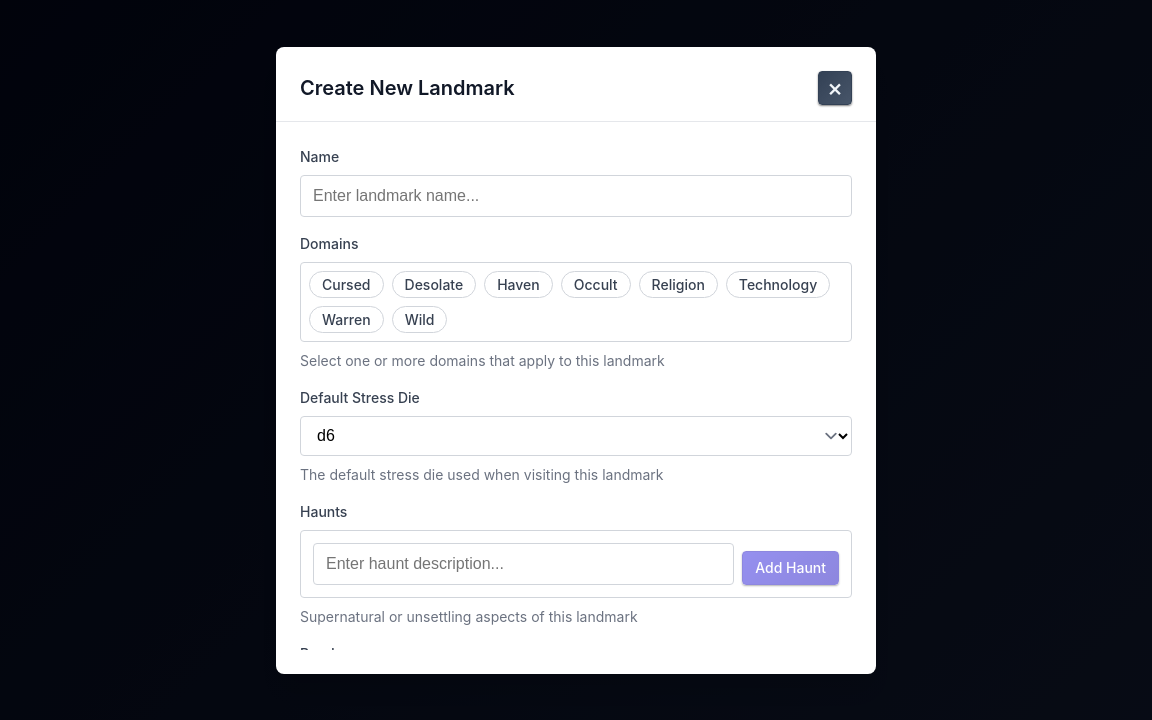
Test case: LandmarkForm › Form Fields › allows adding haunts
Type "New haunt" into the field with placeholder "Enter haunt description...". click: (524, 564)
box: [313,542,734,584]
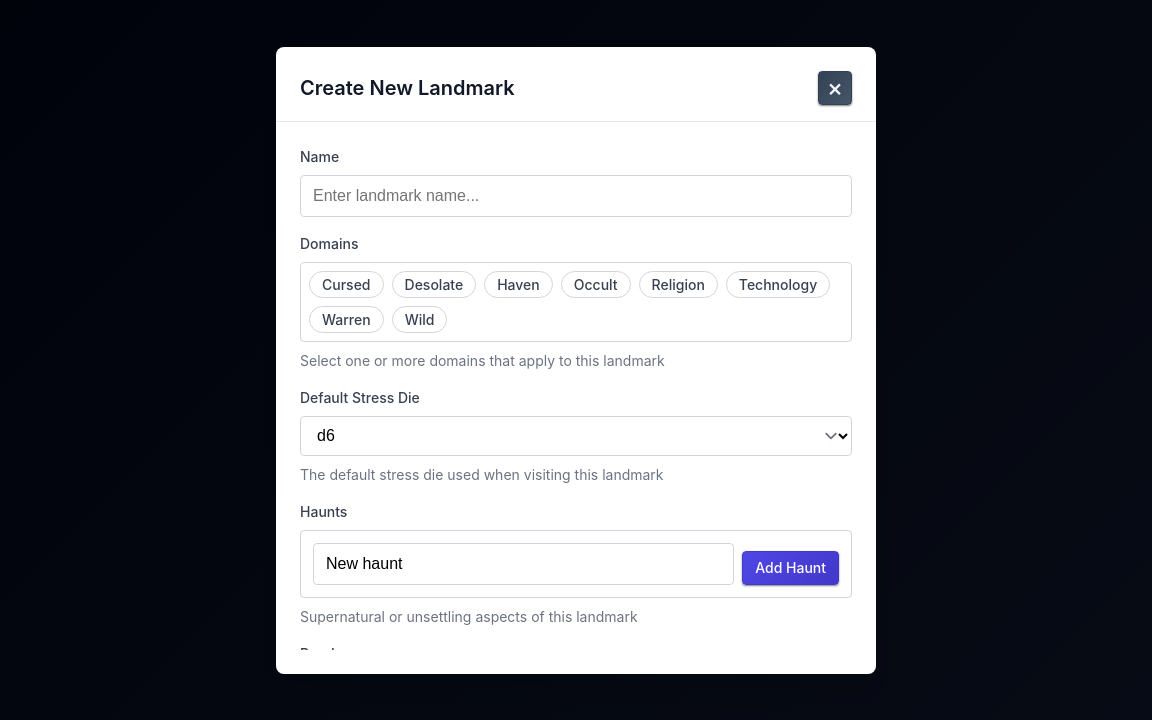
Click the button "Add Haunt". click: (791, 568)
box: [742,550,839,584]
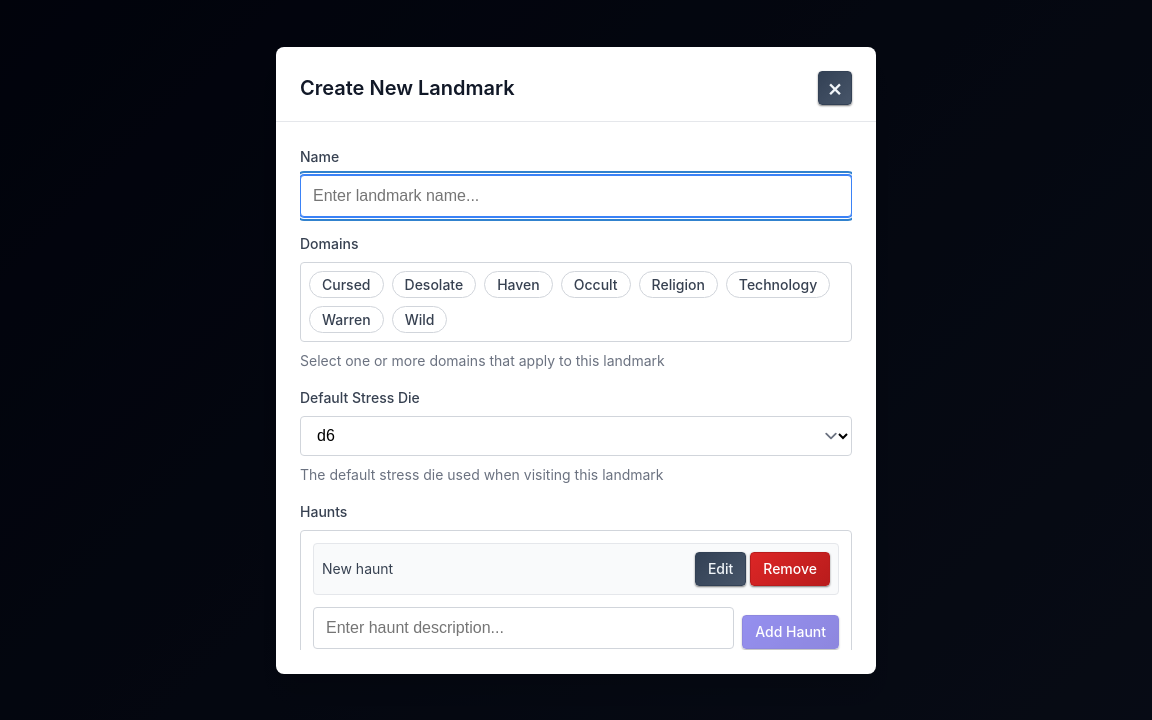
Result: the text "New haunt" is shown at [322,560,393,577]
